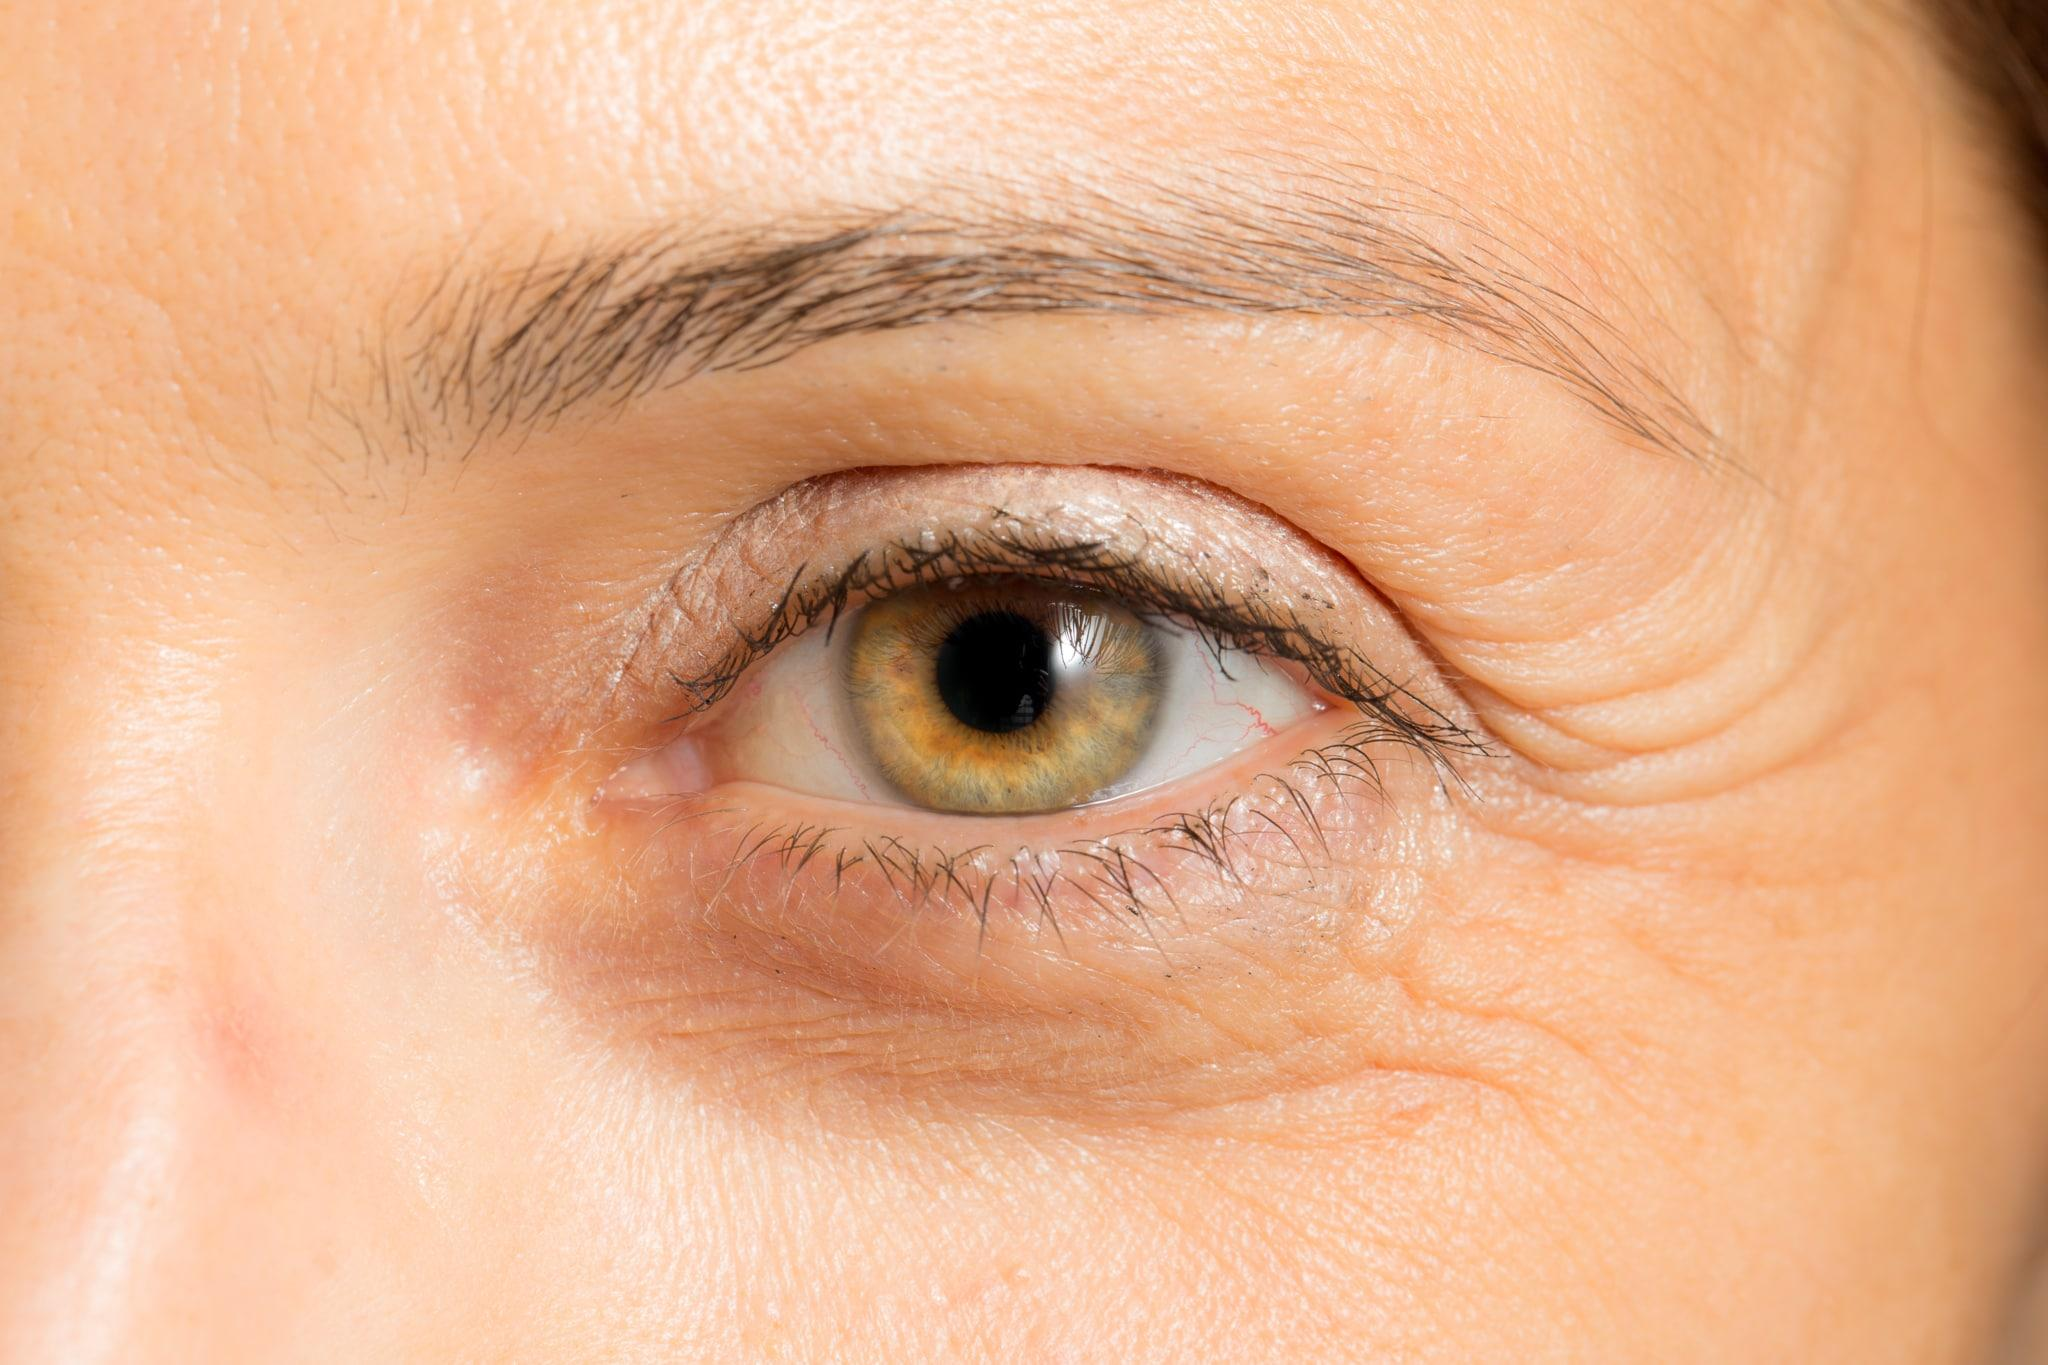Eyebags: (550, 826, 1358, 1091)
